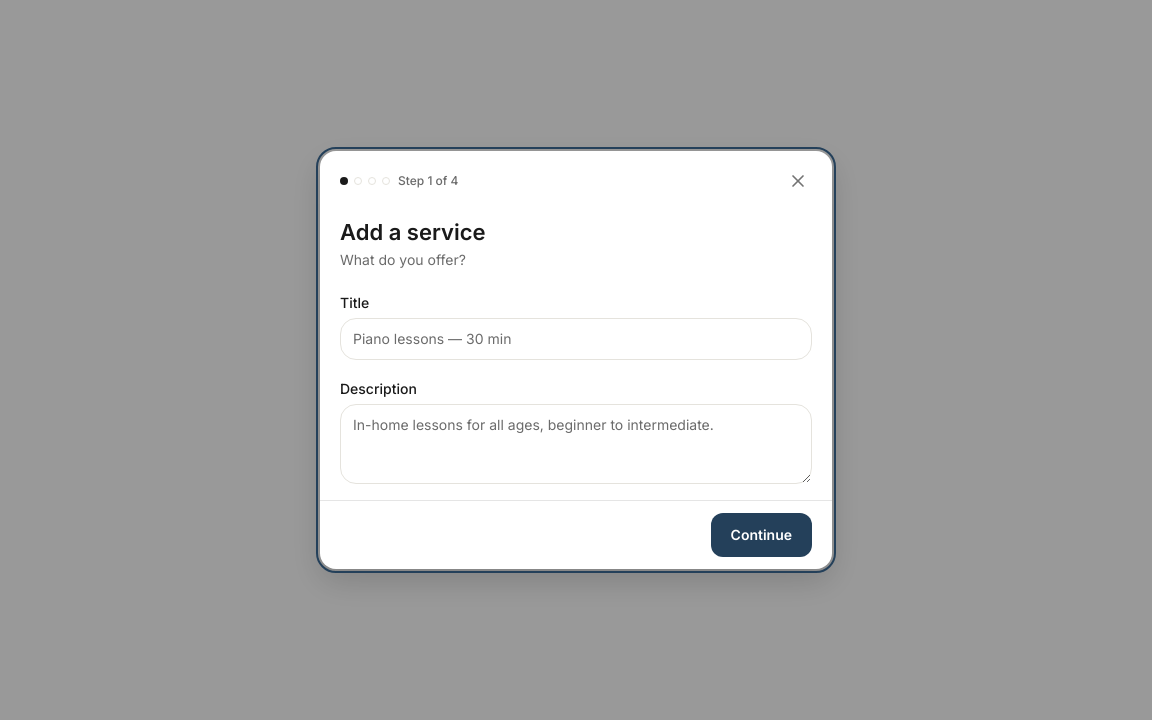
Test: T082 — pricing step › hides the rate input when Free is toggled
The width and height of the screenshot is (1152, 720).
Type "Piano lessons" into the field with test id "service-title-input" at (576, 339), box x1=340 y1=318 x2=812 y2=360
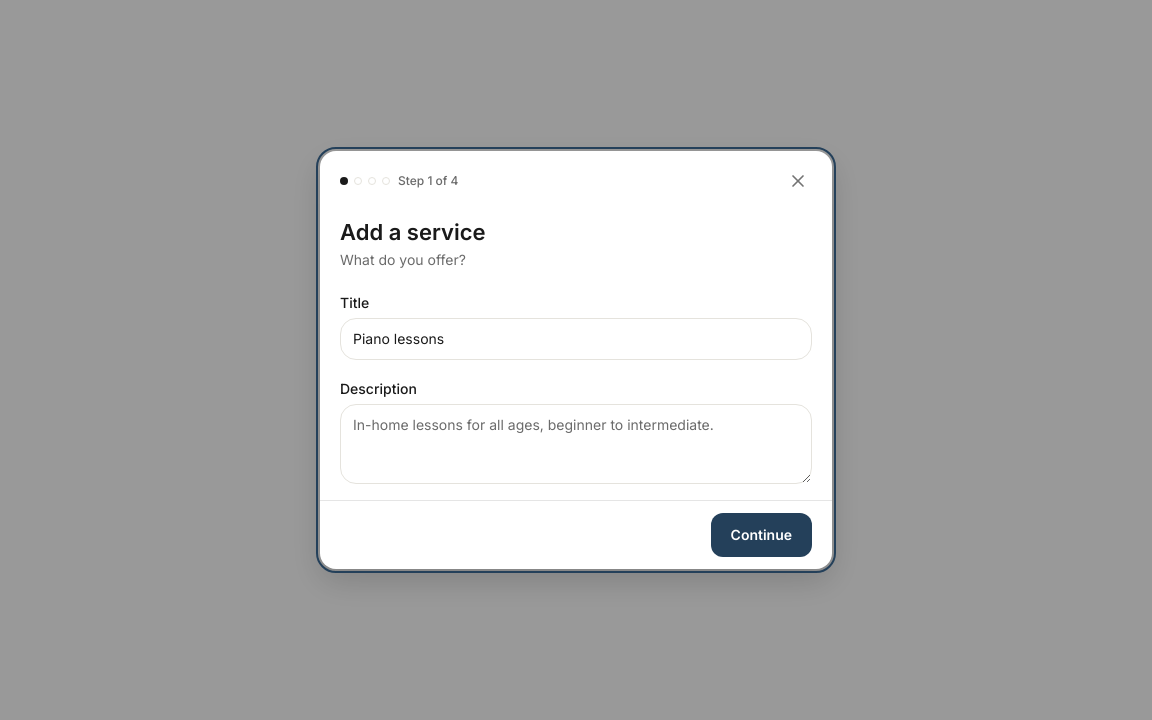
Type "In-home, 30 minutes." into the text box with test id "service-description-input" at (576, 444), box x1=340 y1=404 x2=812 y2=484
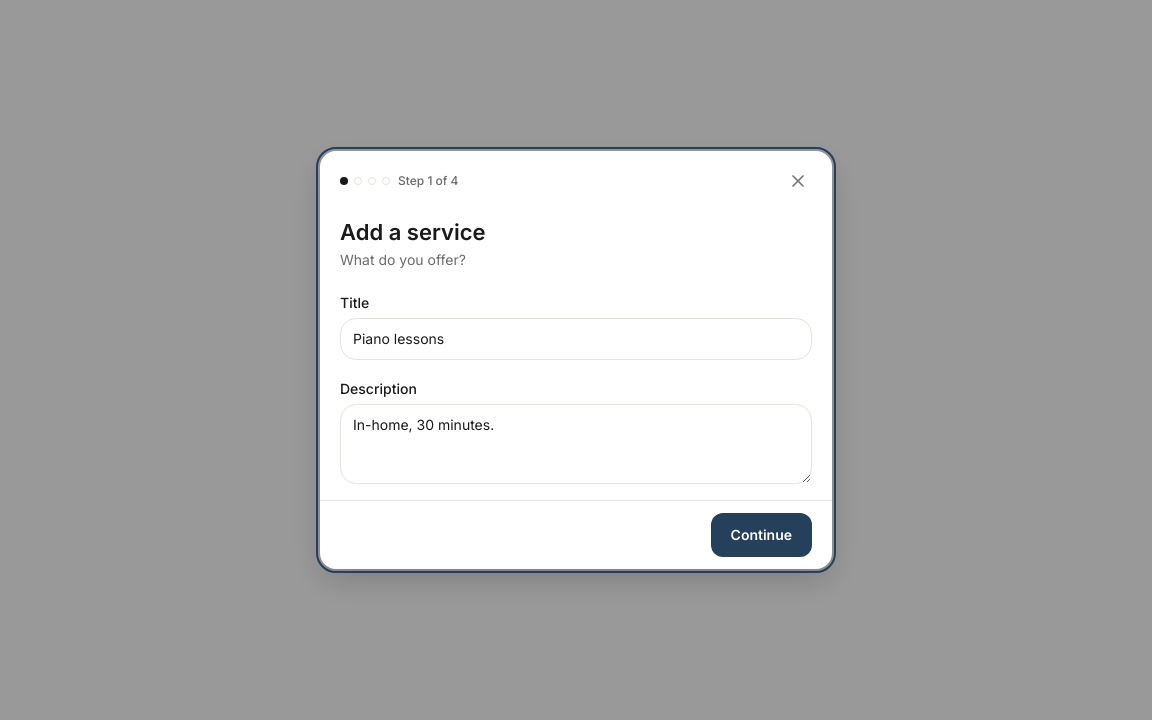
Click the button "Continue" at (761, 535), box x1=711 y1=513 x2=812 y2=557
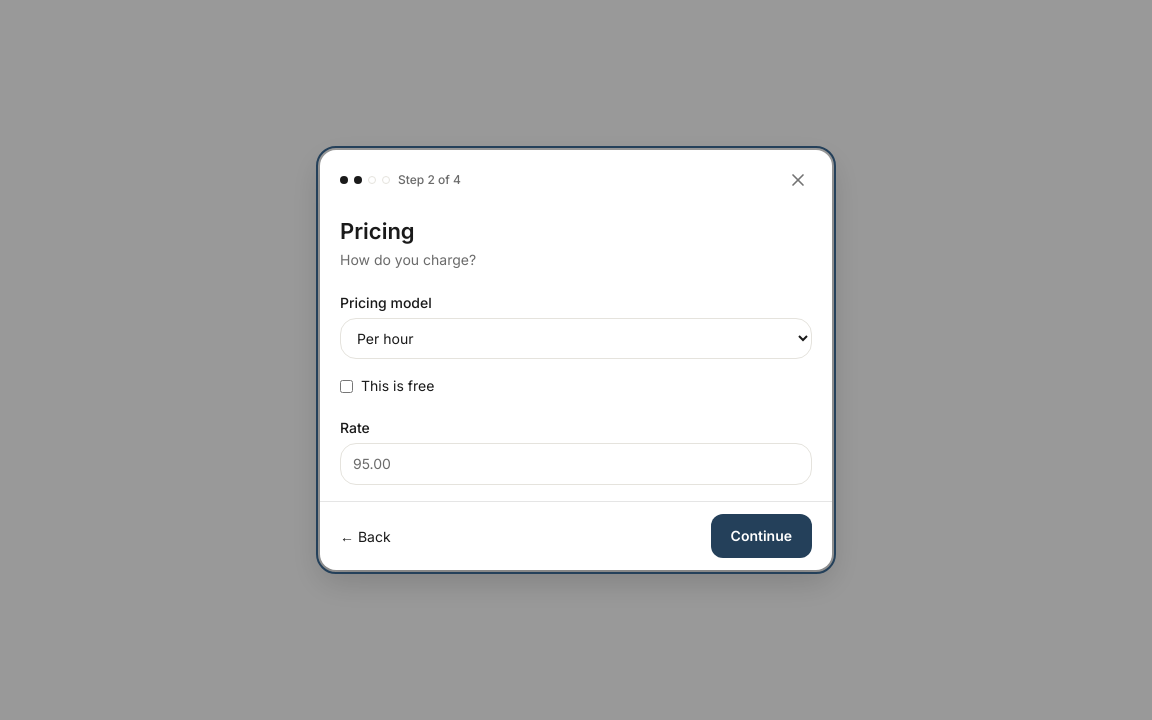
Expected: the dropdown with test id "service-rate-model-select" is shown, x1=340 y1=318 x2=812 y2=359
Click the checkbox with test id "service-free-toggle" at (346, 386), box x1=340 y1=380 x2=353 y2=393
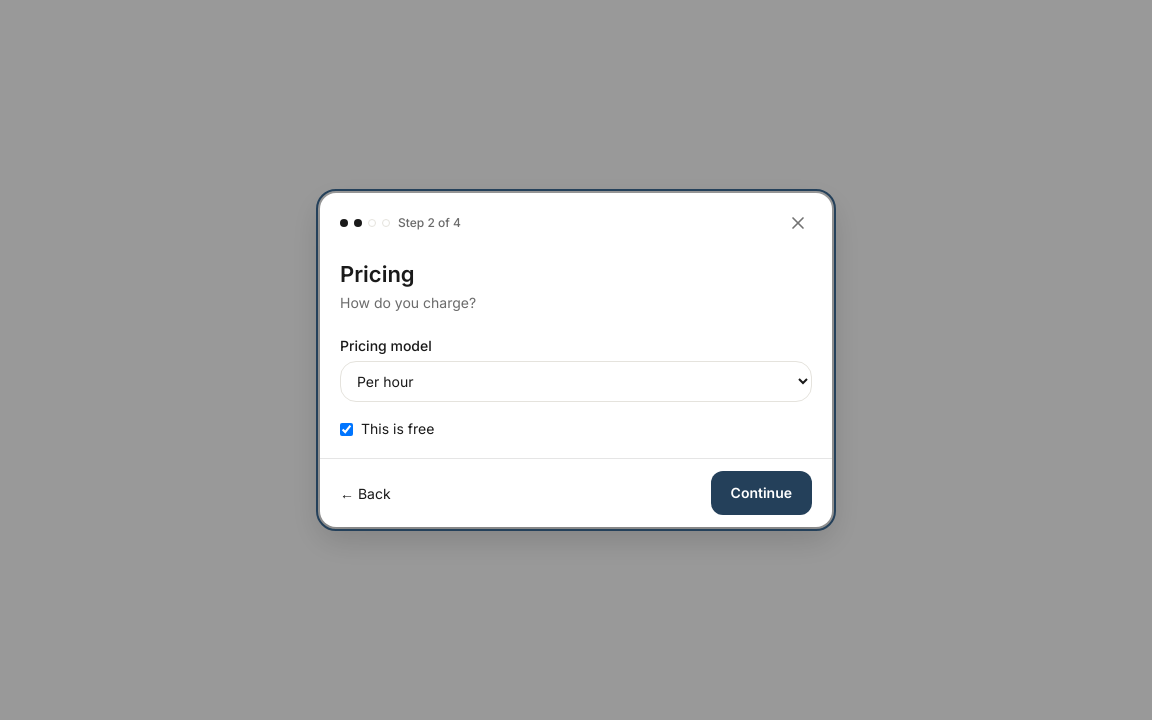
Expected: the field with test id "service-rate-input" is gone
